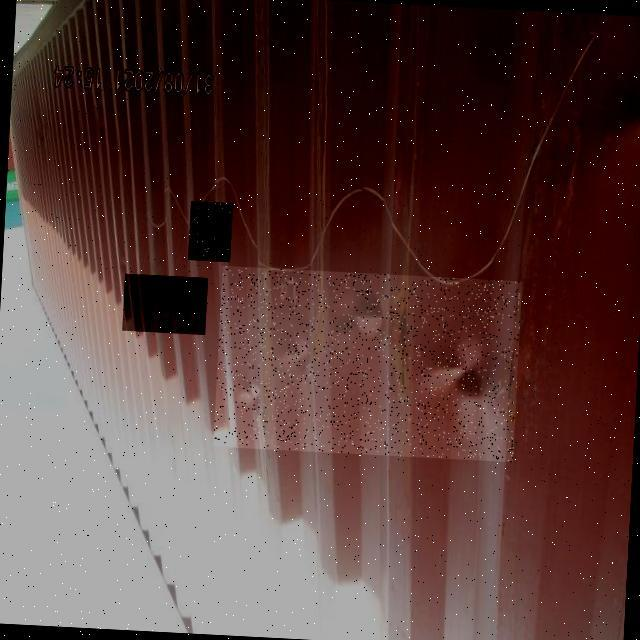Dent: (214, 266, 523, 463), (122, 274, 208, 335)
Minor-Dent: (188, 201, 233, 262)
